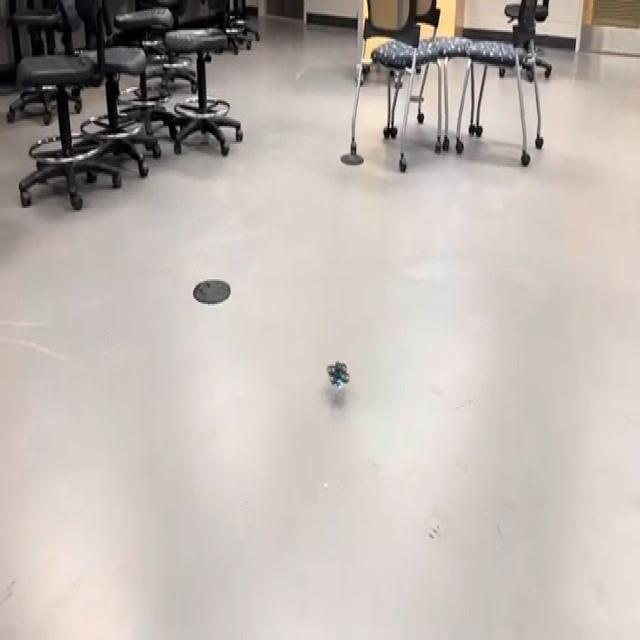drone: (317, 342, 355, 403)
